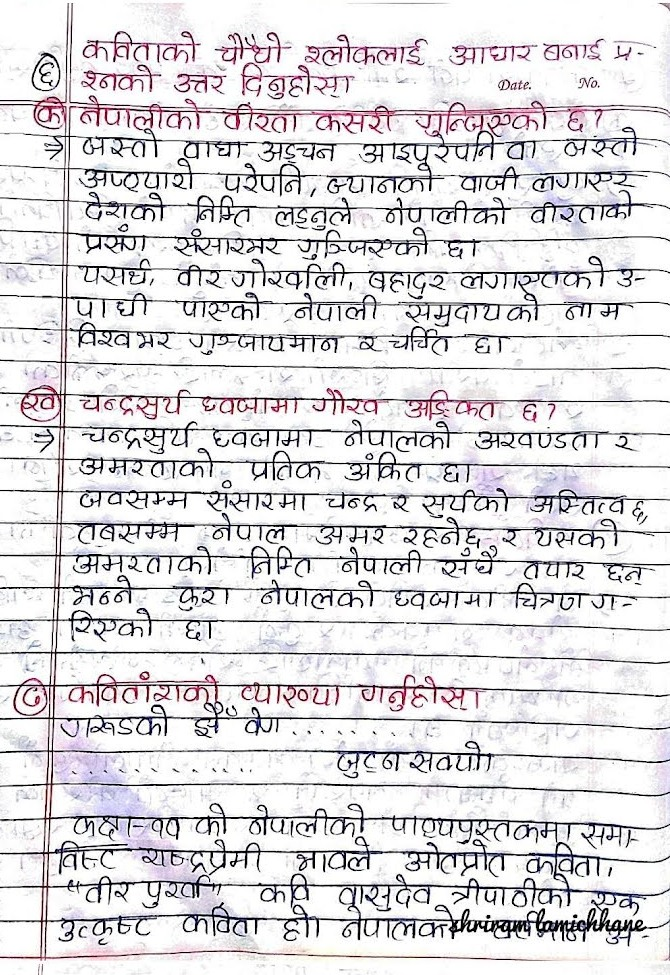text: (386, 810, 575, 844), (459, 255, 608, 292), (69, 671, 218, 707), (413, 98, 550, 137), (78, 93, 204, 133), (401, 293, 543, 328), (185, 328, 347, 358), (247, 799, 367, 839), (359, 672, 470, 715), (140, 838, 267, 875), (295, 227, 429, 262), (448, 874, 577, 910), (70, 545, 215, 577), (357, 130, 500, 162), (79, 28, 199, 66), (303, 32, 429, 68), (77, 448, 217, 480), (336, 905, 456, 942), (76, 157, 195, 193), (80, 418, 195, 455), (238, 60, 342, 100), (58, 705, 173, 741), (203, 478, 311, 516), (259, 576, 378, 610), (325, 162, 437, 198), (527, 189, 641, 223), (384, 195, 509, 226), (230, 257, 347, 290), (340, 419, 456, 452), (53, 912, 159, 948), (404, 840, 507, 877), (470, 427, 607, 454), (336, 873, 433, 911), (171, 227, 286, 259), (77, 386, 188, 419), (65, 604, 155, 642), (76, 486, 197, 514), (529, 515, 620, 552), (68, 319, 172, 351), (240, 677, 343, 709), (209, 423, 326, 451), (528, 487, 628, 519), (70, 518, 188, 545), (419, 486, 512, 520), (84, 189, 168, 226), (219, 161, 305, 197), (291, 290, 382, 324), (403, 388, 498, 420), (292, 836, 374, 873), (523, 842, 605, 878), (175, 291, 267, 323), (363, 265, 447, 300), (408, 738, 483, 777), (81, 127, 162, 163), (207, 512, 290, 547), (400, 515, 485, 549), (51, 839, 129, 876), (338, 544, 425, 577), (273, 196, 355, 231), (179, 905, 262, 939), (312, 104, 400, 136), (246, 449, 323, 485), (390, 586, 500, 611), (345, 450, 423, 485), (220, 101, 302, 134), (529, 169, 643, 192), (79, 64, 163, 95), (142, 871, 212, 908), (211, 31, 289, 64), (244, 544, 315, 579), (507, 581, 585, 612), (77, 223, 150, 256), (201, 393, 301, 417), (446, 41, 537, 67), (561, 129, 642, 158), (332, 747, 405, 778), (310, 386, 385, 416), (187, 194, 255, 227), (71, 290, 150, 318), (68, 574, 135, 607), (75, 258, 149, 287), (558, 294, 629, 324), (578, 818, 640, 852), (389, 324, 452, 357), (438, 545, 498, 579), (186, 703, 240, 740), (257, 139, 338, 163), (69, 810, 136, 839), (170, 582, 232, 613), (518, 557, 588, 584), (540, 37, 607, 65), (588, 888, 650, 917), (457, 165, 520, 193), (314, 522, 387, 546), (258, 873, 312, 904), (82, 875, 134, 907), (243, 706, 289, 739), (173, 261, 225, 289), (180, 138, 245, 160), (194, 800, 230, 839), (323, 490, 381, 513), (172, 72, 228, 95), (601, 561, 650, 587), (281, 904, 312, 942), (149, 813, 187, 842), (24, 389, 57, 415), (505, 137, 539, 162), (562, 102, 587, 135), (612, 428, 642, 455), (465, 330, 493, 356), (178, 617, 207, 642), (516, 395, 540, 424), (591, 589, 620, 613), (354, 333, 383, 356), (15, 684, 43, 707), (612, 38, 636, 64), (36, 58, 57, 87), (438, 459, 461, 485), (443, 235, 465, 262), (498, 525, 524, 547), (389, 491, 412, 514), (616, 265, 635, 290), (630, 496, 645, 523)
